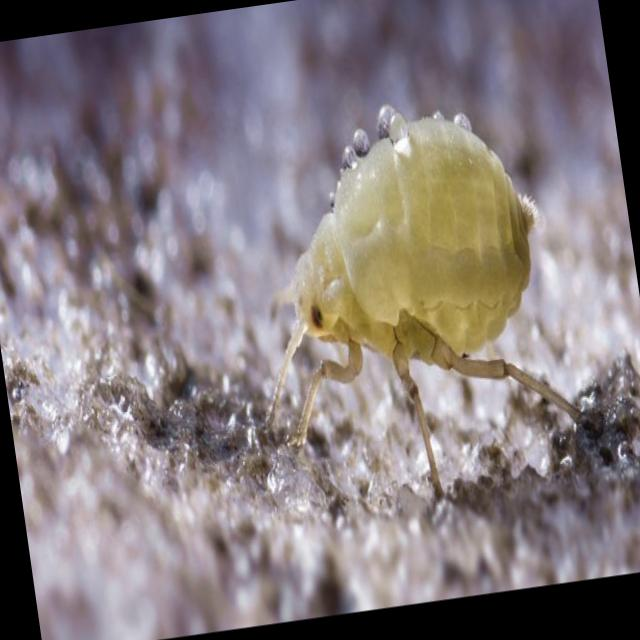Aphids: (190, 54, 604, 554)
